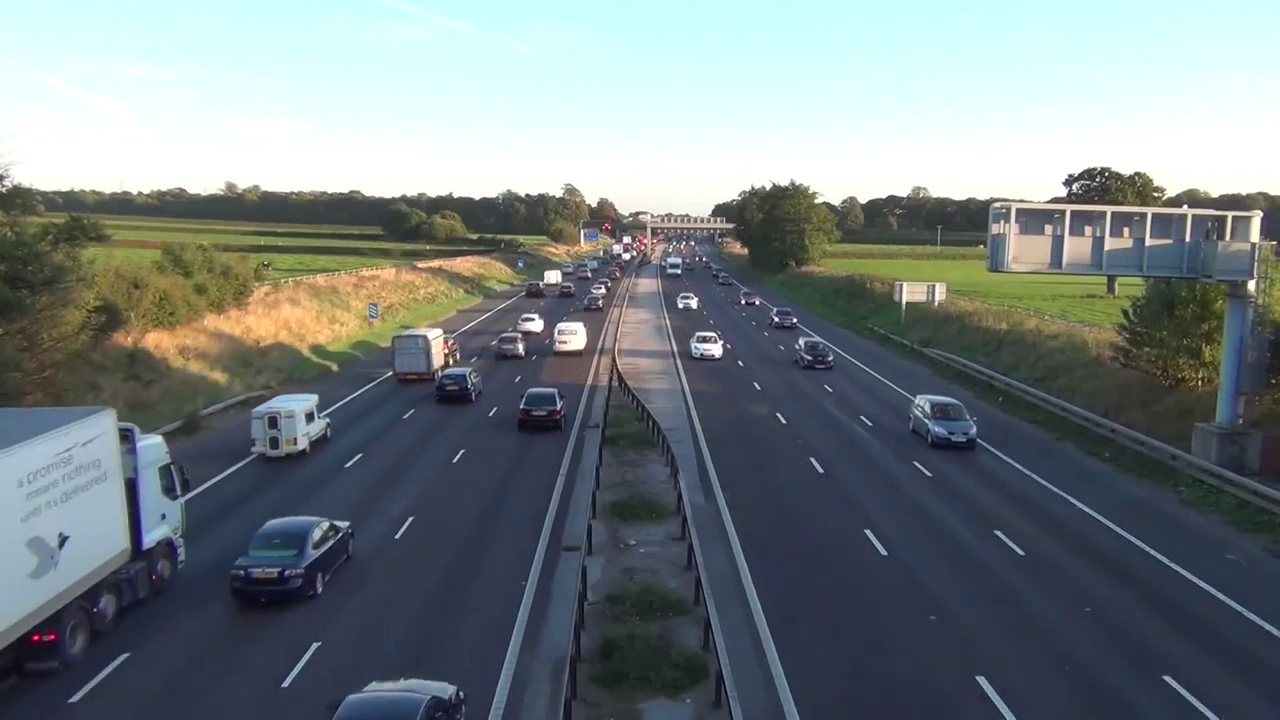bus: (231, 515, 355, 610), (248, 392, 332, 460), (907, 395, 978, 449), (391, 327, 462, 378), (516, 385, 569, 429), (434, 368, 484, 402), (793, 335, 834, 370), (553, 323, 587, 356), (689, 331, 724, 360), (490, 334, 526, 359), (767, 306, 798, 329), (514, 313, 543, 332), (677, 293, 699, 311), (739, 289, 760, 306)
car: (0, 406, 190, 691)
